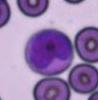M: (24, 29, 74, 76)
